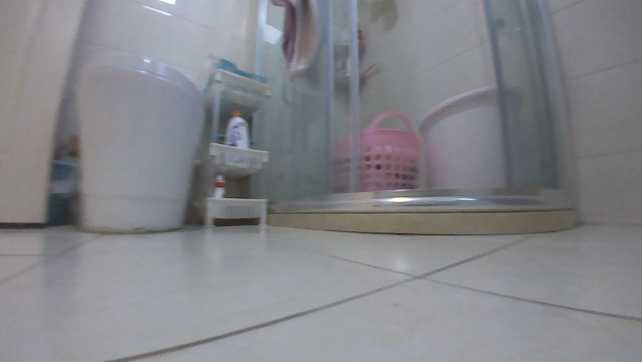toilet: (69, 50, 210, 236)
